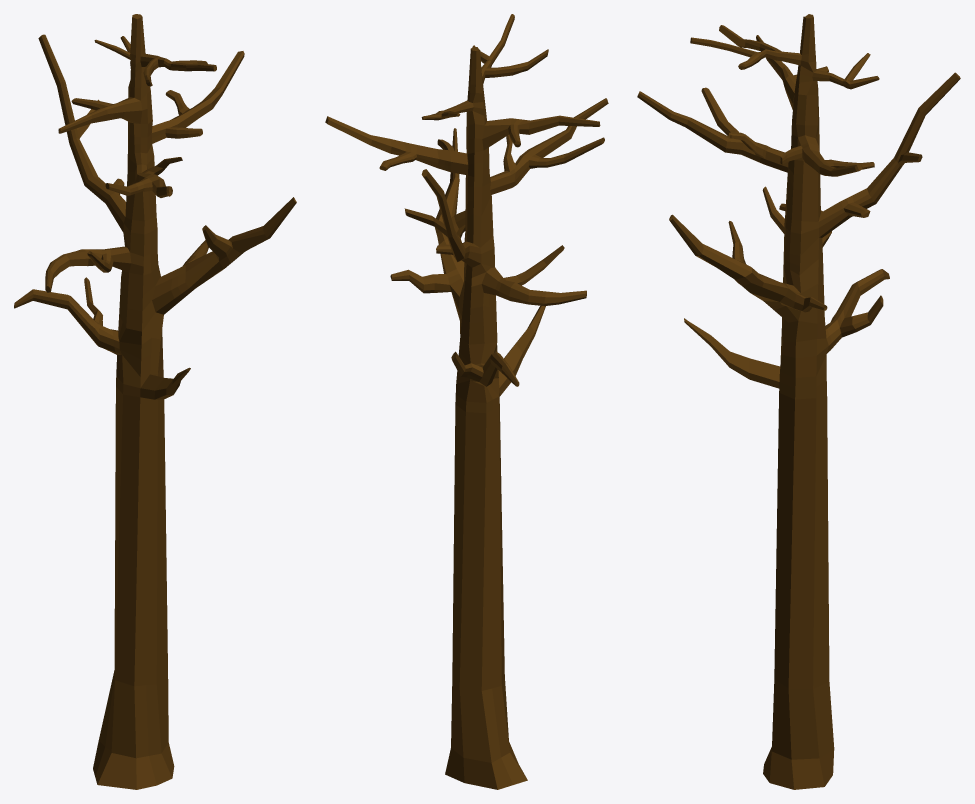
File: dead_pine.fbx
3 renders of one model, left to right at view 1: azimuth 30°, elevation 25°; view 2: azimuth 150°, elevation 25°; view 3: azimuth 270°, elevation 25°, orthographic. The views are drawn at different scales.
Visible parts, largest first — view 1: Cylinder; view 2: Cylinder; view 3: Cylinder.
Part boxes in pixels (x1,y1,x2,y2): Cylinder: (14,14,296,789); Cylinder: (325,14,608,789); Cylinder: (637,14,960,789).
Size of the model in its own units: 453 by 1391 by 538.
